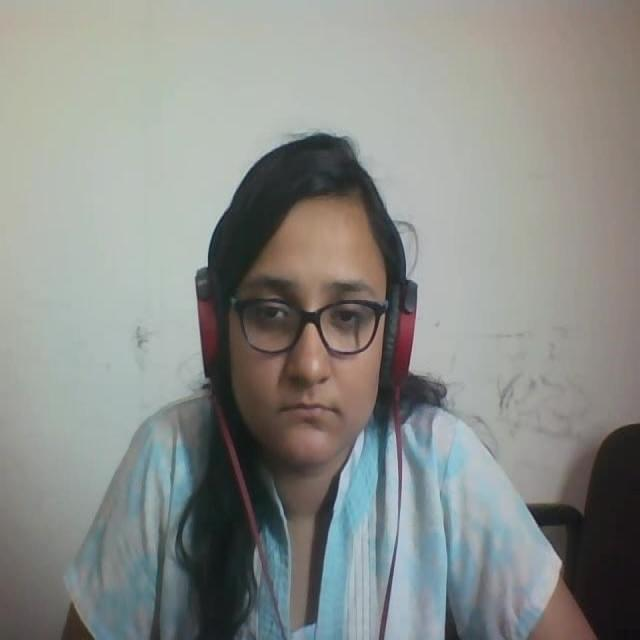Bored: (151, 82, 440, 504)
